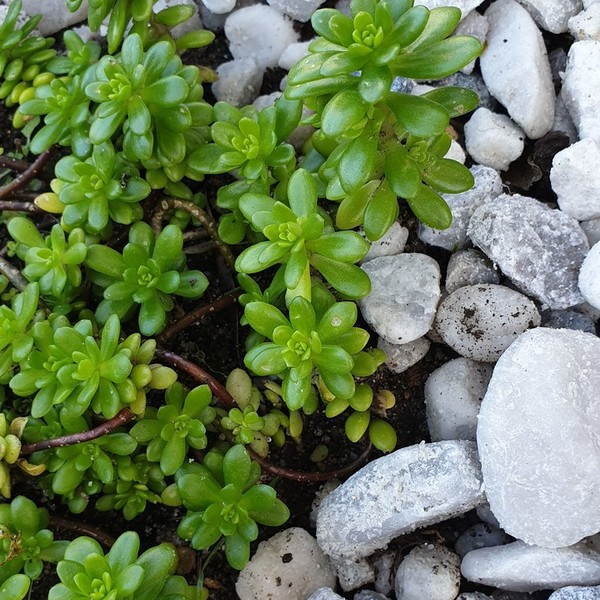obstacle: (69, 27, 466, 433)
